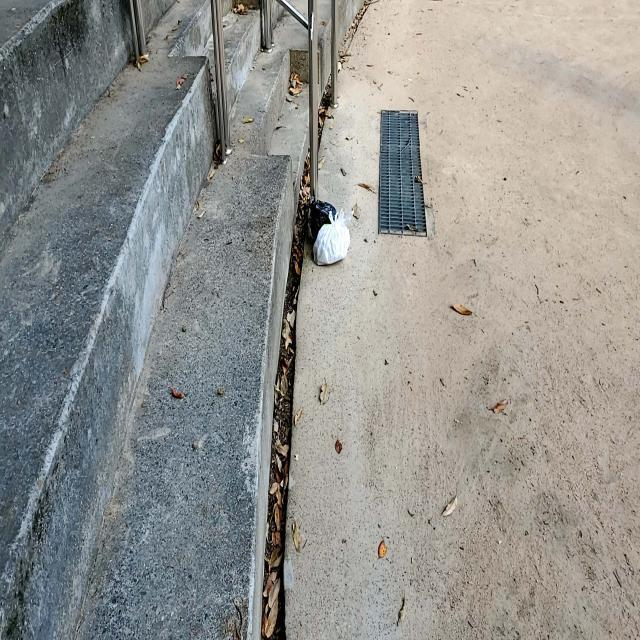Trashbag: (297, 188, 342, 242)
